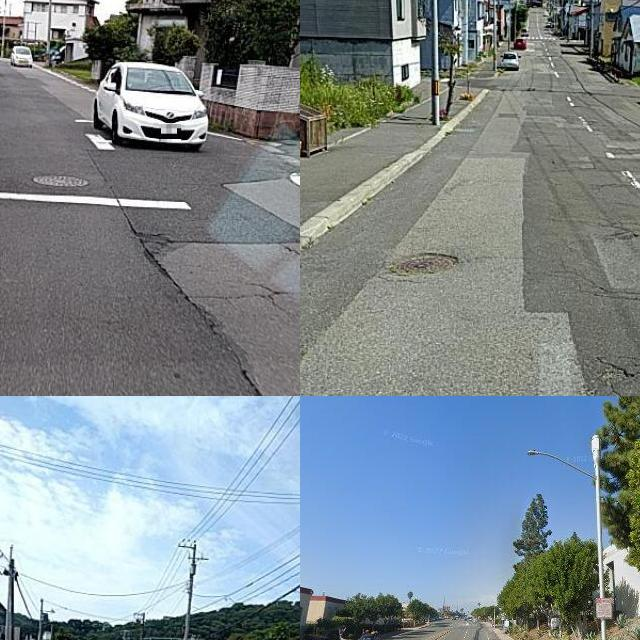Sambungan: (300, 152, 592, 396), (145, 237, 300, 396)
